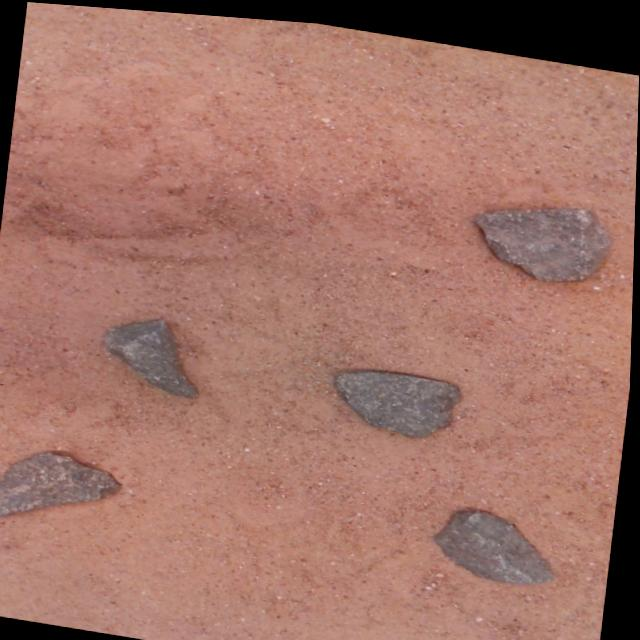rock: (478, 197, 613, 272), (437, 501, 558, 574), (338, 363, 462, 429), (0, 450, 124, 514), (108, 315, 200, 393)
